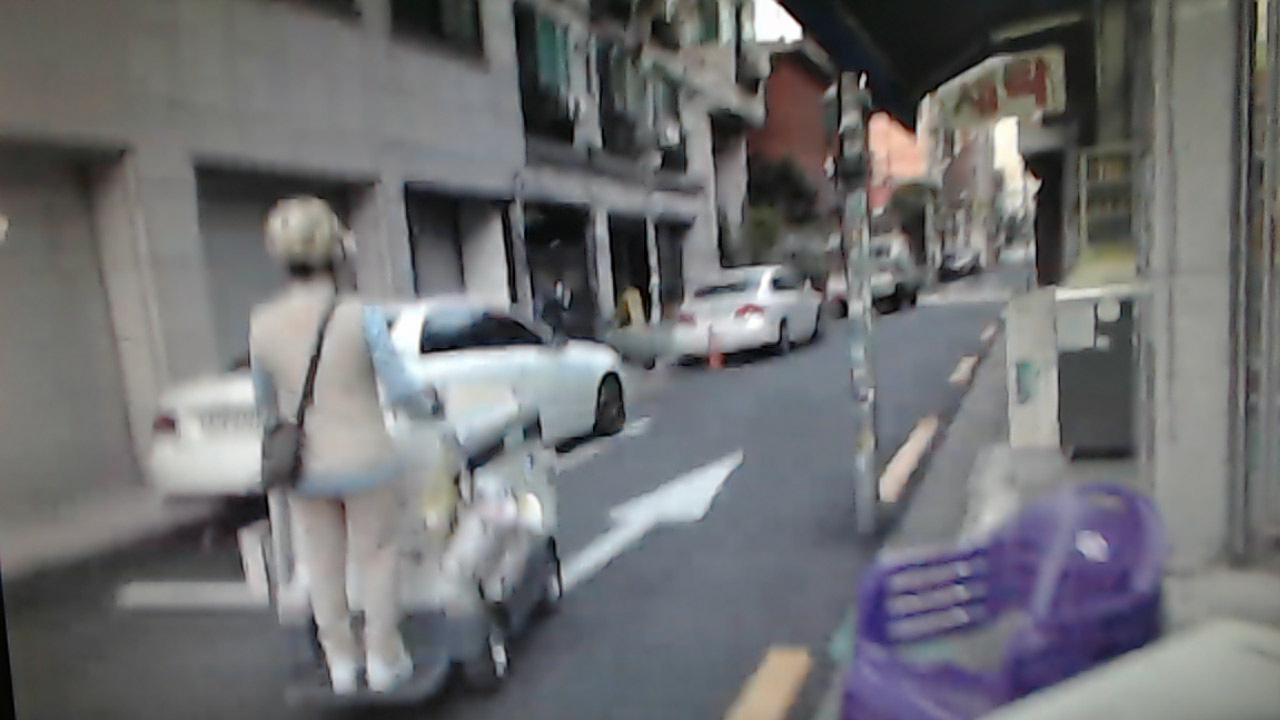Yakurut: (214, 194, 485, 712)
